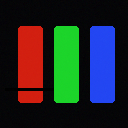3 line_h: (5, 88, 53, 90)
